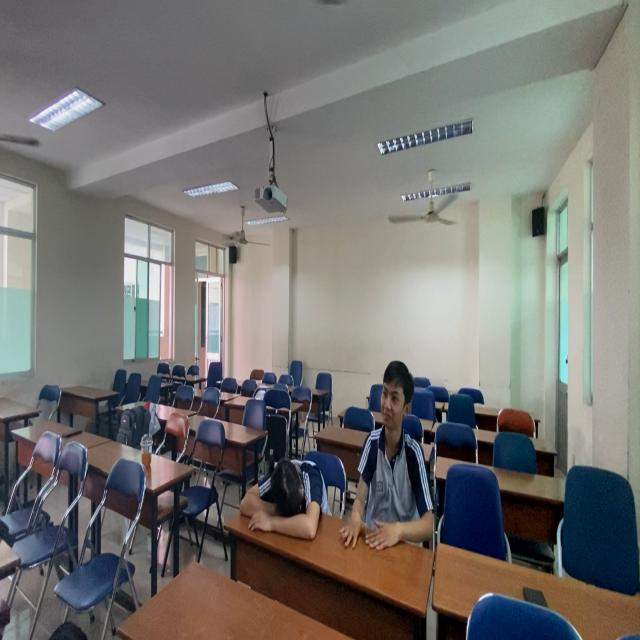sleep: (238, 449, 328, 552)
